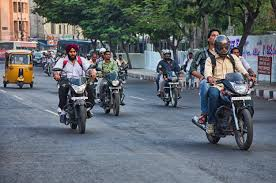Auto rickshaw: (2, 50, 39, 91)
Bike: (55, 75, 97, 128)
Human: (194, 26, 237, 80)
